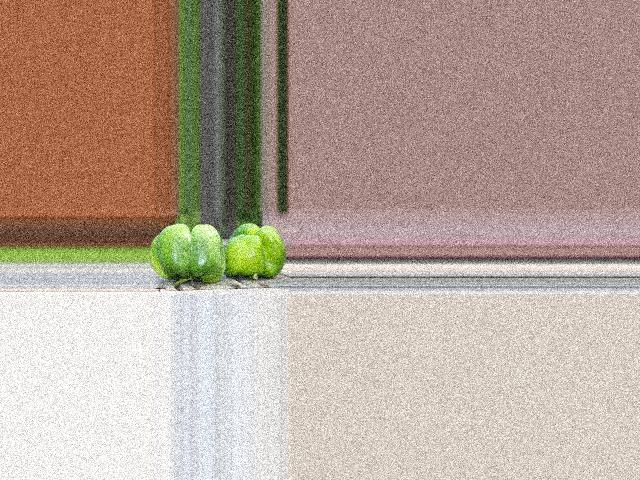bell_pepper: (223, 220, 288, 283)
